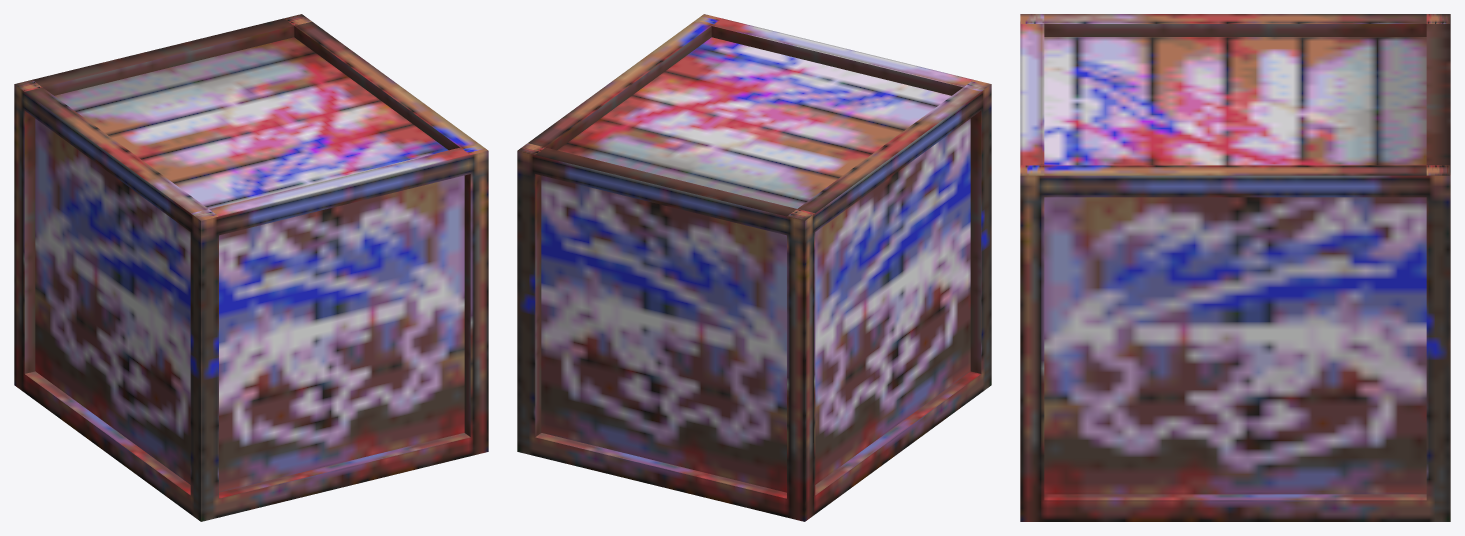
Rendered from Poly_SF_Outside_B_Shipping_Container_02.obj.
3 renders of one model, left to right at view 1: azimuth 30°, elevation 25°; view 2: azimuth 150°, elevation 25°; view 3: azimuth 270°, elevation 25°, orthographic. The views are drawn at different scales.
Visible parts, largest first — view 1: Cube.001; view 2: Cube.001; view 3: Cube.001.
Boxes of the visible parts, left/top/right/bottom form: Cube.001: left=14, top=14, right=488, bottom=521; Cube.001: left=517, top=14, right=991, bottom=521; Cube.001: left=1020, top=14, right=1450, bottom=521.
Size of the model in its own units: 0.8 by 0.8 by 0.9.
1 material, 1 textured.
